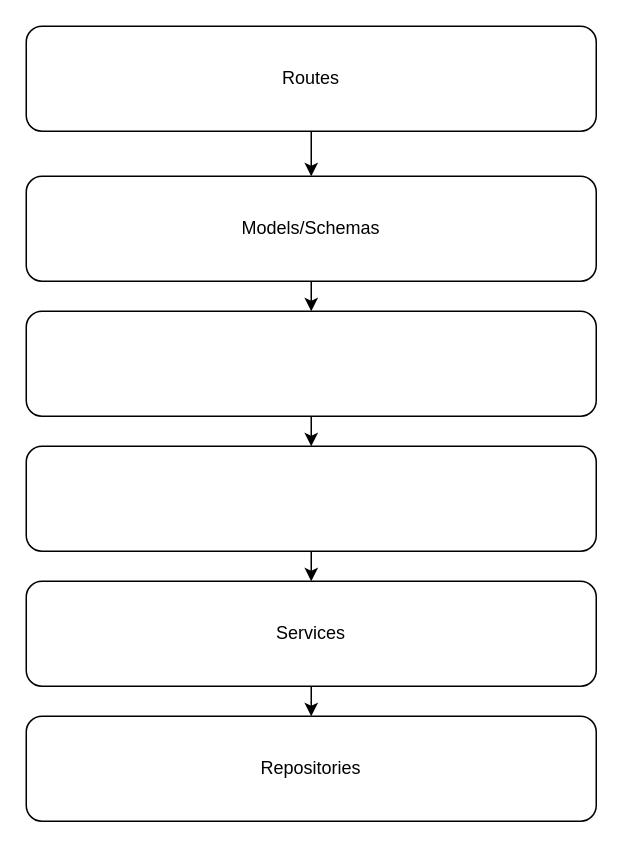
The diagram is 623 pixels wide and 848 high, and some of its shapes have lost their labels. Here are the shapes that lost their labels. From the top down, the centre of each, then its label:
At (310,363): "Middlewares".
At (310,498): "Controllers".
